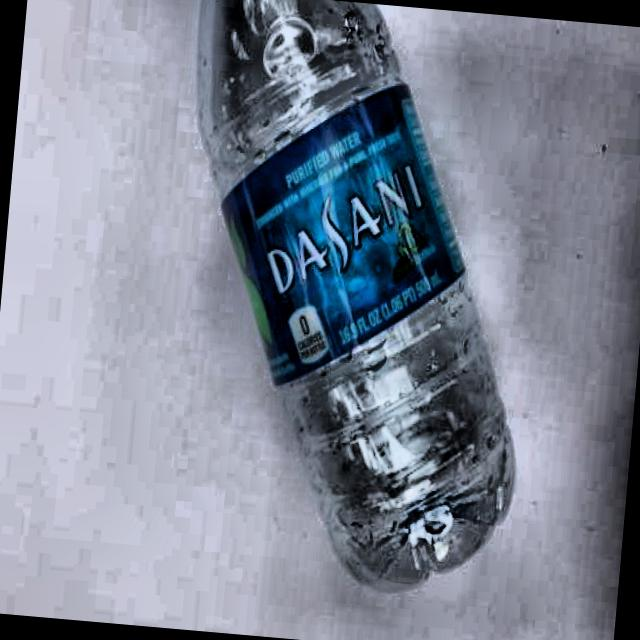plastic bottle: (198, 0, 514, 587)
